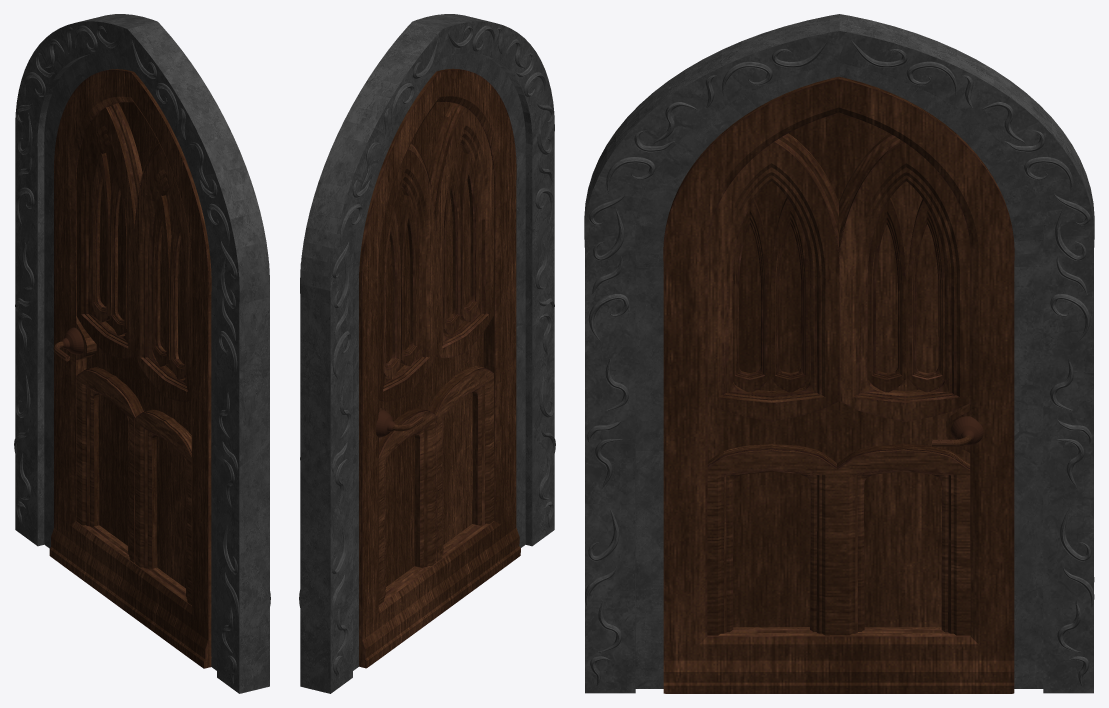
The model's file is door.fbx.
The picture shows the model from 3 angles, left to right: view 1: azimuth 30°, elevation 25°; view 2: azimuth 150°, elevation 25°; view 3: azimuth 270°, elevation 25°; orthographic projection. The views are drawn at different scales.
Parts seen in each view (by area): view 1: Plane.006; view 2: Plane.006; view 3: Plane.006.
Boxes of the visible parts, <box> form: Plane.006: <box>14,14,270,693</box>; Plane.006: <box>299,14,555,693</box>; Plane.006: <box>584,14,1094,693</box>.
Bounding box in the file's own units: 13.54 × 106 × 74.28.
